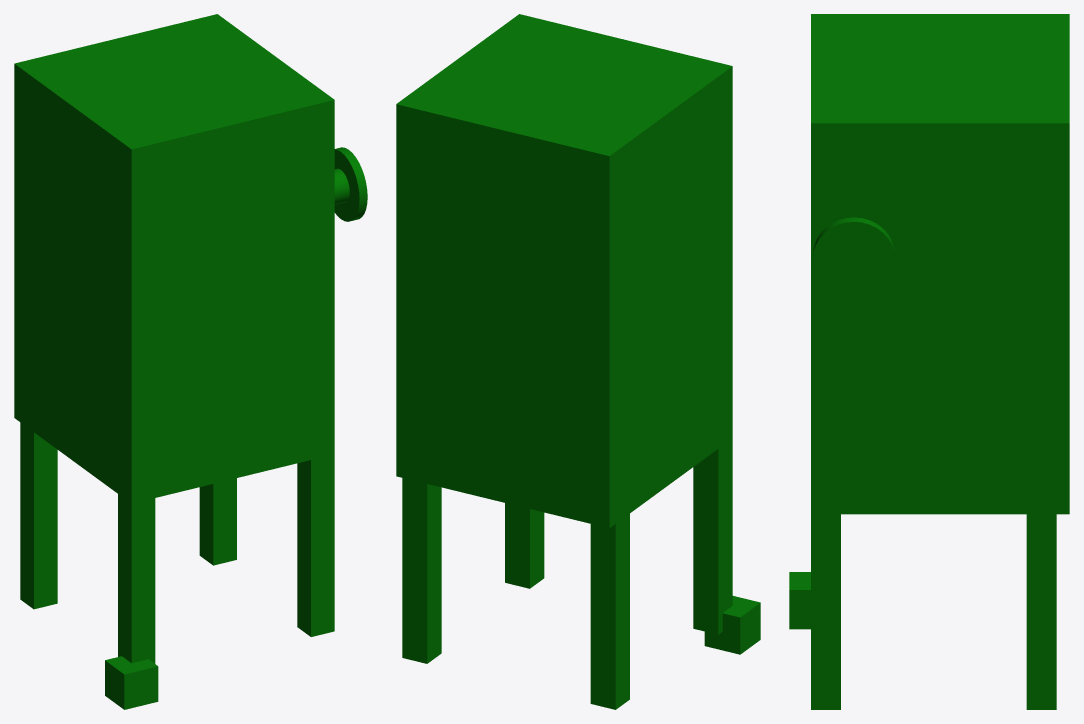
The model's file is Image-1710907724655-2280941644848_71-SM52D.fbx.
The picture shows the model from 3 angles, left to right: view 1: azimuth 30°, elevation 25°; view 2: azimuth 150°, elevation 25°; view 3: azimuth 270°, elevation 25°; orthographic projection. The views are drawn at different scales.
Visible parts, largest first — view 1: BOX 1 of SUBEQUIPMENT /71-SM52D-PRIM, BOX 3 of SUBEQUIPMENT /71-SM52D-PRIM, BOX 4 of SUBEQUIPMENT /71-SM52D-PRIM, BOX 2 of SUBEQUIPMENT /71-SM52D-PRIM, BOX 5 of SUBEQUIPMENT /71-SM52D-PRIM, BOX 1 of SUBEQUIPMENT /71-SM55D, /71-SM52D-N1; view 2: BOX 1 of SUBEQUIPMENT /71-SM52D-PRIM, BOX 4 of SUBEQUIPMENT /71-SM52D-PRIM, BOX 5 of SUBEQUIPMENT /71-SM52D-PRIM, BOX 2 of SUBEQUIPMENT /71-SM52D-PRIM, BOX 3 of SUBEQUIPMENT /71-SM52D-PRIM, BOX 1 of SUBEQUIPMENT /71-SM55D; view 3: BOX 1 of SUBEQUIPMENT /71-SM52D-PRIM, BOX 5 of SUBEQUIPMENT /71-SM52D-PRIM, BOX 3 of SUBEQUIPMENT /71-SM52D-PRIM, /71-SM52D-N1, BOX 1 of SUBEQUIPMENT /71-SM55D.
Boxes of the visible parts, bbox=[...] form: BOX 1 of SUBEQUIPMENT /71-SM52D-PRIM: bbox=[14, 14, 334, 503]; BOX 3 of SUBEQUIPMENT /71-SM52D-PRIM: bbox=[297, 454, 334, 636]; BOX 4 of SUBEQUIPMENT /71-SM52D-PRIM: bbox=[20, 422, 57, 609]; BOX 2 of SUBEQUIPMENT /71-SM52D-PRIM: bbox=[118, 494, 155, 663]; BOX 5 of SUBEQUIPMENT /71-SM52D-PRIM: bbox=[199, 478, 236, 565]; BOX 1 of SUBEQUIPMENT /71-SM55D: bbox=[105, 656, 158, 709]; /71-SM52D-N1: bbox=[334, 147, 367, 221]; BOX 1 of SUBEQUIPMENT /71-SM52D-PRIM: bbox=[396, 14, 732, 528]; BOX 4 of SUBEQUIPMENT /71-SM52D-PRIM: bbox=[590, 513, 629, 709]; BOX 5 of SUBEQUIPMENT /71-SM52D-PRIM: bbox=[402, 478, 441, 663]; BOX 2 of SUBEQUIPMENT /71-SM52D-PRIM: bbox=[693, 438, 732, 634]; BOX 3 of SUBEQUIPMENT /71-SM52D-PRIM: bbox=[505, 503, 544, 588]; BOX 1 of SUBEQUIPMENT /71-SM55D: bbox=[704, 596, 760, 654]; BOX 1 of SUBEQUIPMENT /71-SM52D-PRIM: bbox=[811, 14, 1069, 514]; BOX 5 of SUBEQUIPMENT /71-SM52D-PRIM: bbox=[1026, 514, 1056, 709]; BOX 3 of SUBEQUIPMENT /71-SM52D-PRIM: bbox=[811, 514, 840, 709]; /71-SM52D-N1: bbox=[813, 217, 894, 295]; BOX 1 of SUBEQUIPMENT /71-SM55D: bbox=[789, 572, 810, 629].
Bounding box in the file's own units: 0.75 × 0.65 × 1.55.
